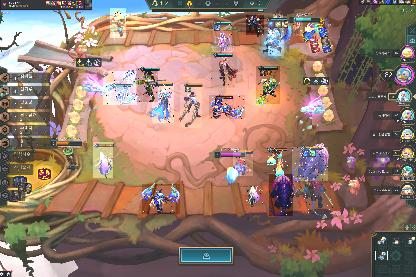1_daeja: (268, 20, 284, 56)
1_nomsy: (269, 174, 293, 216)
1_rengar: (294, 178, 334, 218)
1_skarner: (142, 184, 180, 214), (209, 95, 245, 119)
1_soraka: (245, 186, 263, 206)
1_sylas: (180, 84, 202, 128), (246, 15, 264, 35), (273, 14, 283, 18)
1_volibear: (110, 8, 126, 38)
1_xayah: (212, 22, 232, 52), (293, 14, 303, 36)
2_heimerdinger: (233, 150, 253, 176)
2_jax: (256, 66, 280, 104)
2_nasus: (136, 68, 158, 102)
2_nilah: (267, 148, 289, 176)
2_nomsy: (292, 147, 328, 181)
2_rakan: (211, 52, 237, 88)
2_skarner: (103, 71, 137, 105)
2_soraka: (93, 142, 113, 178)
2_vladimir: (152, 83, 174, 123)
